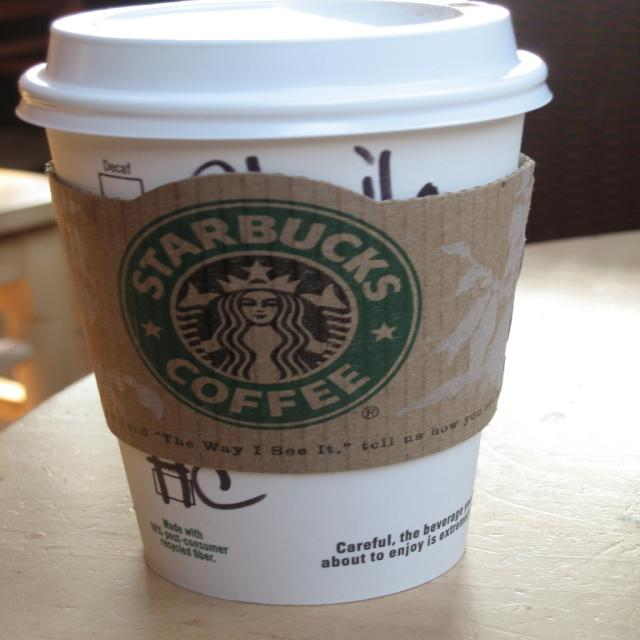starbucks: (120, 199, 424, 432)
